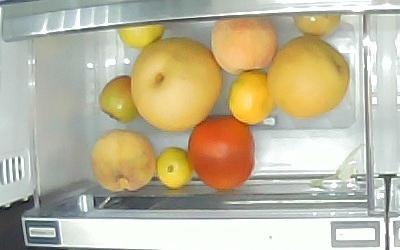peach: (210, 15, 278, 75), (90, 130, 156, 191)
pear: (132, 38, 223, 132), (269, 36, 350, 117)
persimmon: (99, 74, 138, 124)
tangerine: (229, 69, 277, 125), (156, 147, 194, 189), (118, 20, 163, 47)
tomato: (188, 114, 256, 192), (292, 14, 341, 38)
